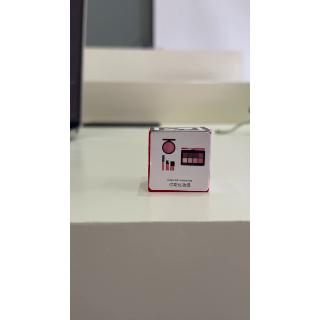Expired_Cosmetic: (150, 133, 210, 193)
